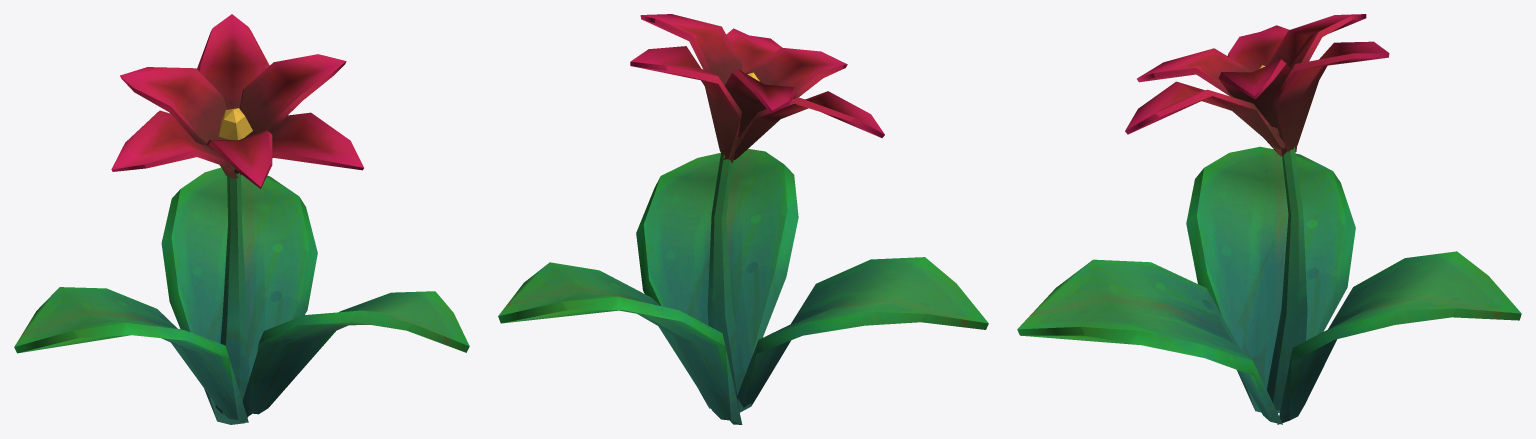
The model's file is flower.glb.
3 renders of one model, left to right at view 1: azimuth 30°, elevation 25°; view 2: azimuth 150°, elevation 25°; view 3: azimuth 270°, elevation 25°, orthographic. The views are drawn at different scales.
Visible parts, largest first — view 1: pCube7_lambert1_0.001; view 2: pCube7_lambert1_0.001; view 3: pCube7_lambert1_0.001.
Part boxes in pixels (<box>): pCube7_lambert1_0.001: <box>14,14,469,424</box>; pCube7_lambert1_0.001: <box>498,14,988,424</box>; pCube7_lambert1_0.001: <box>1017,14,1521,424</box>.
Bounding box in the file's own units: 2.87 × 2.7 × 3.13.
1 material, 1 textured.
